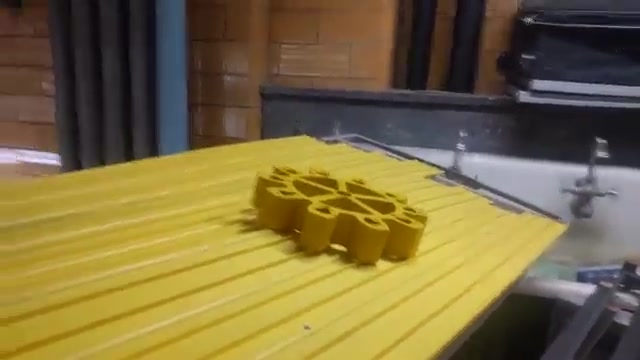gear: (253, 152, 431, 280)
